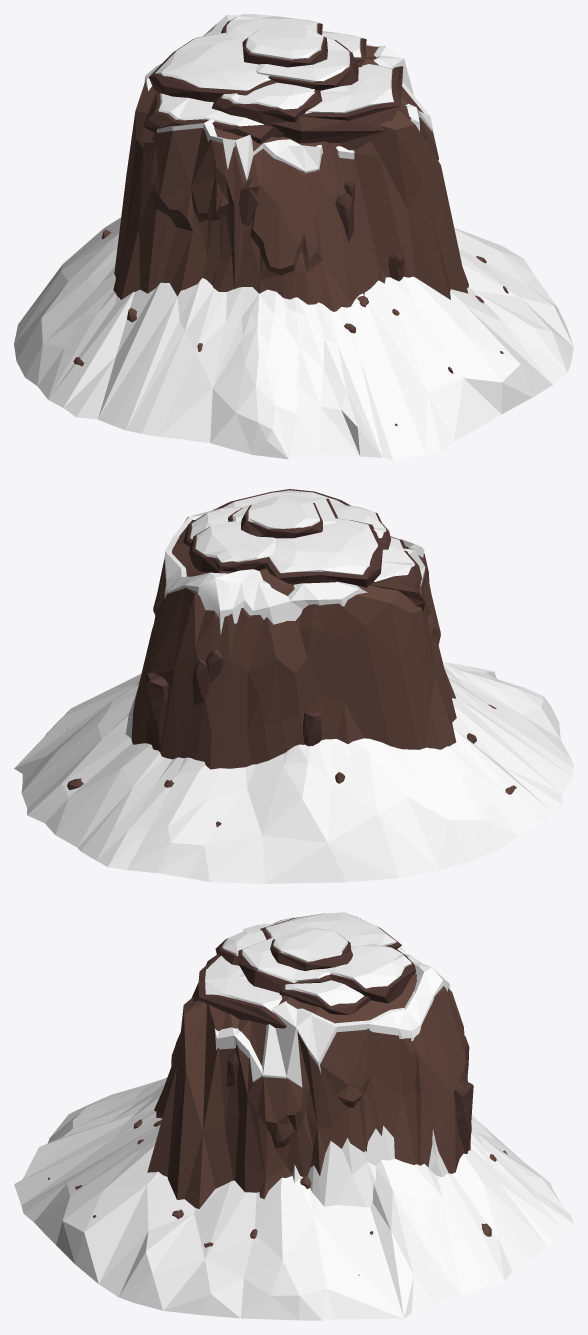
File: snow_crag_002.fbx
3 renders of one model, top to bottom at view 1: azimuth 30°, elevation 25°; view 2: azimuth 150°, elevation 25°; view 3: azimuth 270°, elevation 25°, orthographic. The views are drawn at different scales.
Visible parts, largest first — view 1: snow_crag_002; view 2: snow_crag_002; view 3: snow_crag_002.
Part boxes in pixels (x1,y1,x2,y2): snow_crag_002: [14, 14, 573, 460]; snow_crag_002: [14, 489, 573, 883]; snow_crag_002: [14, 912, 573, 1320].
Bounding box in the file's own units: 8691 × 9116 × 4968.
